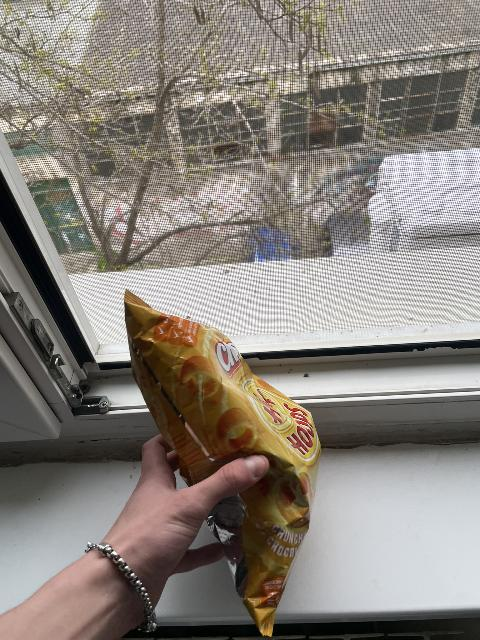Chio Hula Hoops Cheese 70g: (123, 298, 320, 637)
